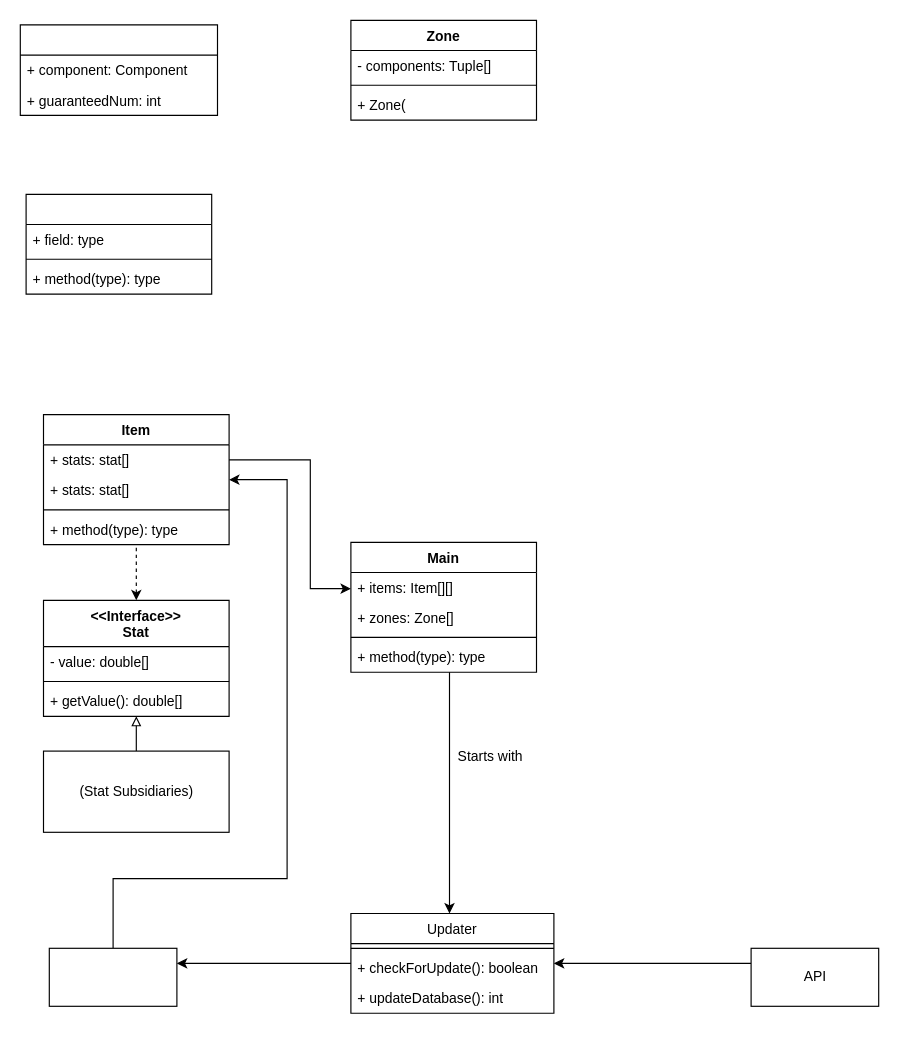
This 899x1037 diagram has some shape labels left out. Here are the shapes that lost their labels. From the top down, the box of each, then its label:
(19, 24, 217, 115): Tuple
(25, 193, 212, 294): Component
(48, 947, 177, 1006): Database
